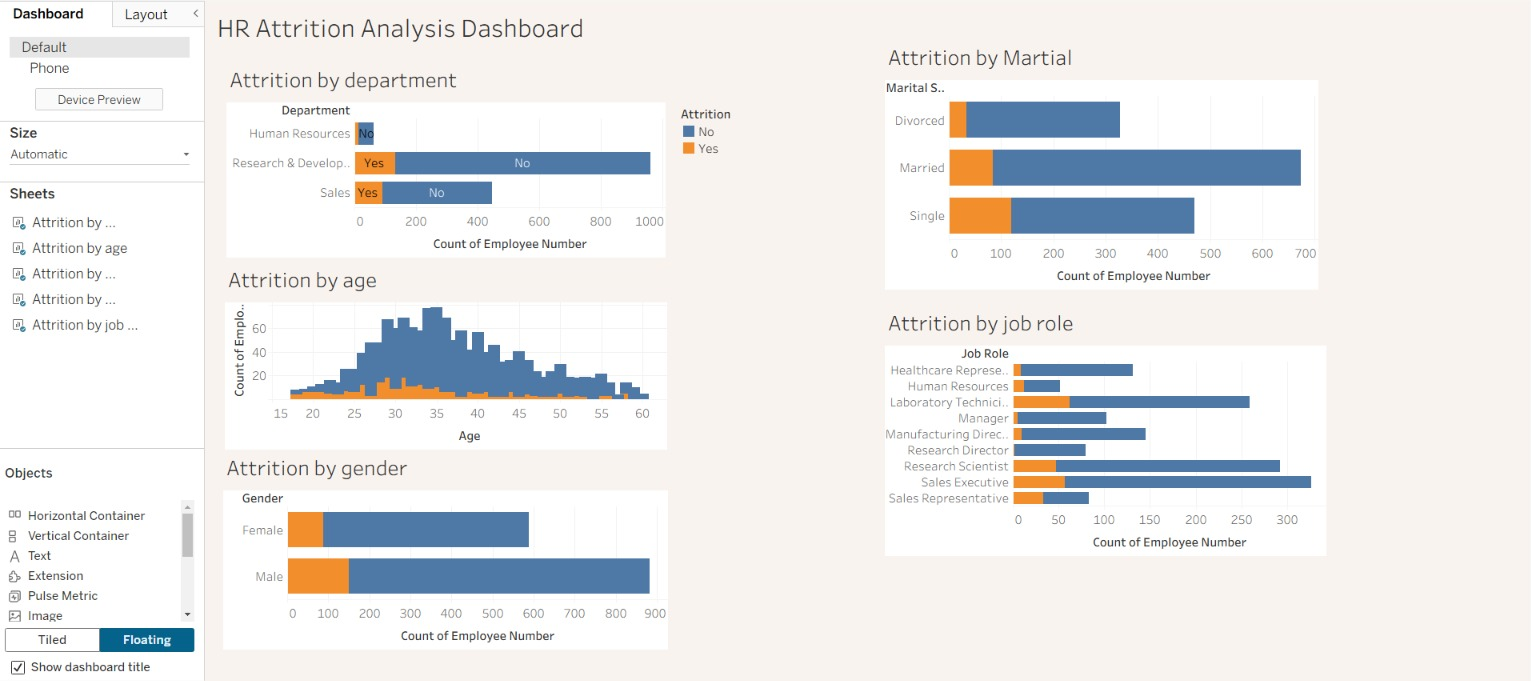

What the dashboard file says about the page in this screenshot:
{"tool":"tableau","page":{"name":"Dashboard 1","canvas":[1000,1000],"units":"permille","ordinal":0},"visuals":[{"type":"title","box":[4.8,9.4,990.3,58.8]},{"type":"worksheet","title":"Attrition by Martial","mark":"Bar","rows":["MaritalStatus"],"cols":["EmployeeNumber"],"box":[513,57.6,327.1,366.6]},{"type":"worksheet","title":"Attrition by department","mark":"Bar","rows":["Department"],"cols":["EmployeeNumber"],"box":[16.3,90.5,331.3,286.7]},{"type":"legend","title":"Attrition by department","param":"[federated.1chswoz1l7hbqj1bvct9t1v2fbjv].[none:Attrition:nk]","box":[359.1,153.9,84.5,75.2]},{"type":"worksheet","title":"Attrition by age","mark":"Bar","rows":["EmployeeNumber"],"cols":["Age"],"box":[15.1,384.2,333.7,275]},{"type":"worksheet","title":"Attrition by job role","mark":"Automatic","rows":["JobRole"],"cols":["EmployeeNumber"],"box":[513,447.7,333.1,510]},{"type":"worksheet","title":"Attrition by gender","mark":"Automatic","rows":["Gender"],"cols":["EmployeeNumber"],"box":[13.9,660.4,335.6,292.6]}]}

Visuals, with their boxes on the dashboard's canvas, which has no fixed pixel size, in thousandths of its width and height (x1, y1, x2, y2). These are canvas units, not pixel positions in the 1531x681 screenshot, which may show the page scaled, cropped or inside an application window:
title: box(5, 9, 995, 68)
"Attrition by Martial" worksheet (Bar marks): box(513, 58, 840, 424)
"Attrition by department" worksheet (Bar marks): box(16, 90, 348, 377)
"Attrition by department" legend: box(359, 154, 444, 229)
"Attrition by age" worksheet (Bar marks): box(15, 384, 349, 659)
"Attrition by job role" worksheet: box(513, 448, 846, 958)
"Attrition by gender" worksheet: box(14, 660, 350, 953)
